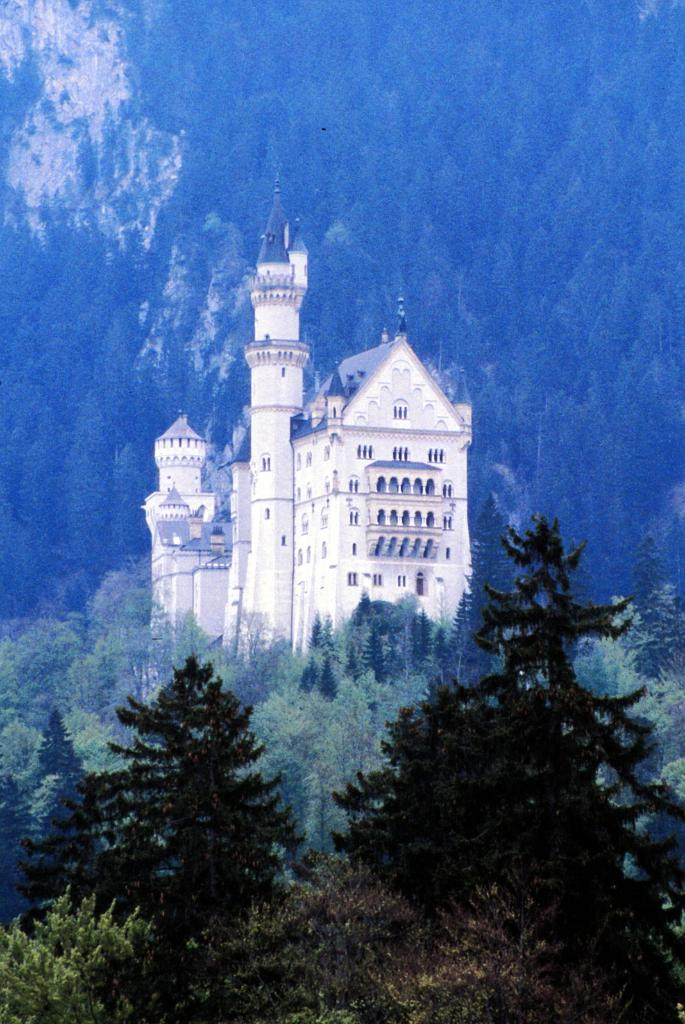Tree: (50, 625, 330, 963), (474, 507, 663, 896), (324, 680, 534, 922), (241, 663, 416, 852), (299, 581, 457, 703), (37, 694, 91, 846), (82, 567, 156, 653), (445, 597, 483, 699)
